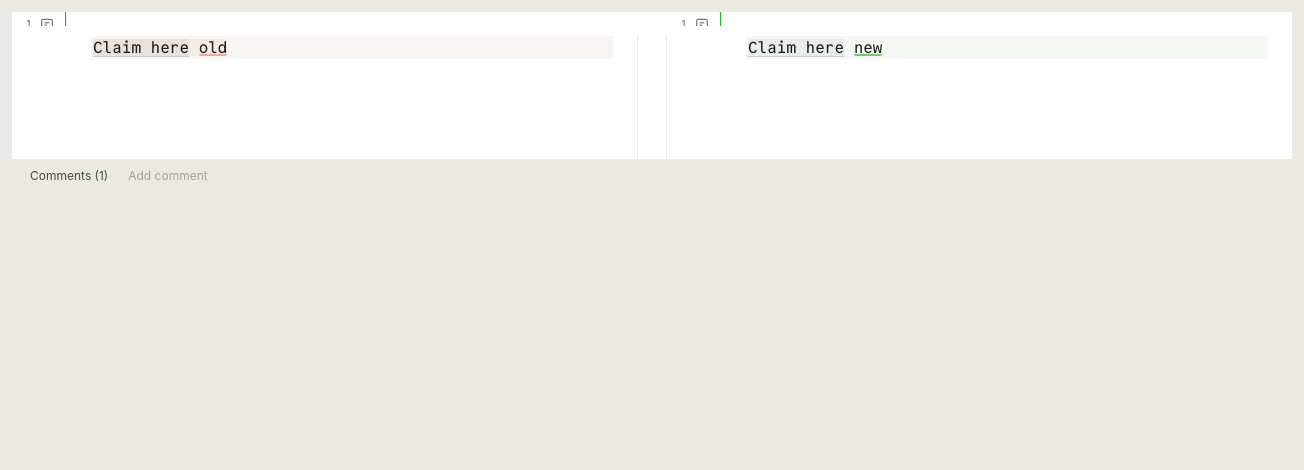
it: DiffView › shows clean split prose with discussions, drafts, and safe reply Undo
Click the 1st button with class "cm-review-comment-marker" at (52, 24), box [40,12,64,36]
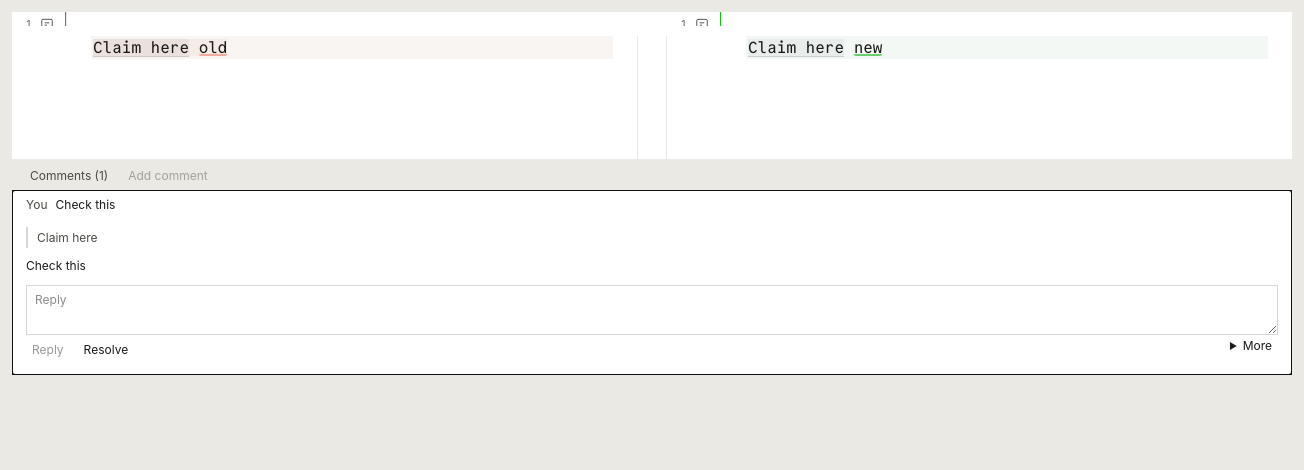
Type "Draft reply" into the text box with placeholder "Reply" at (652, 310), box [26,285,1278,335]
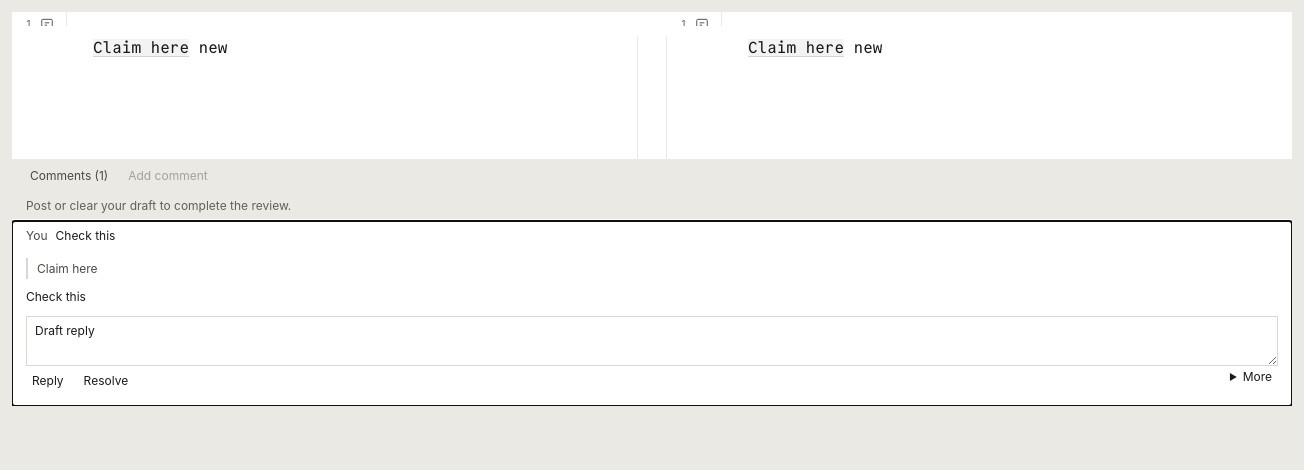
Press z in the text box named "Reply to Check this", box [26,316,1278,366]
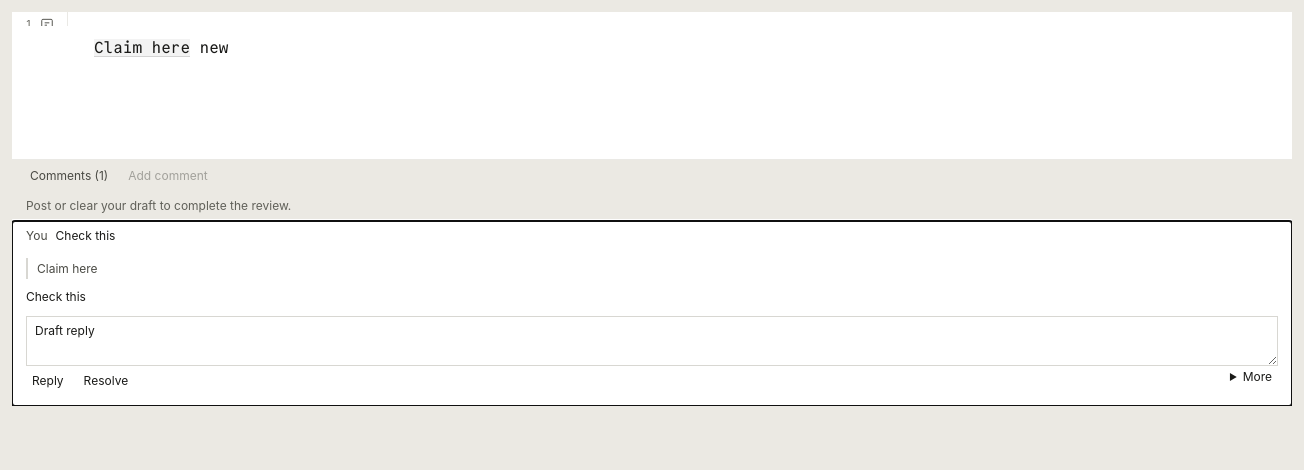
Submit the form, box [26,316,1278,394]
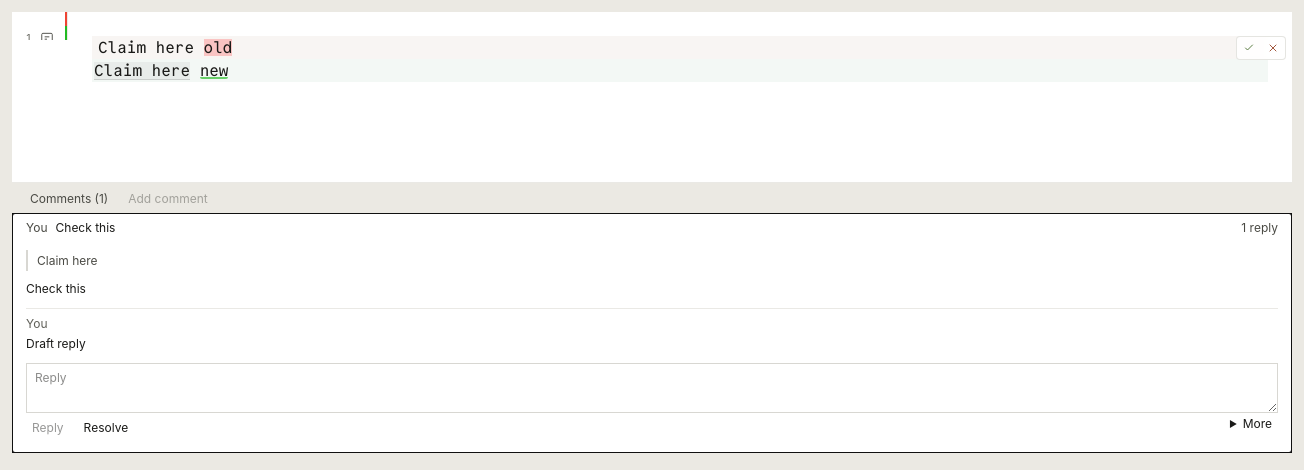
Expected: the text "Draft reply" is shown, [26,336,86,351]
